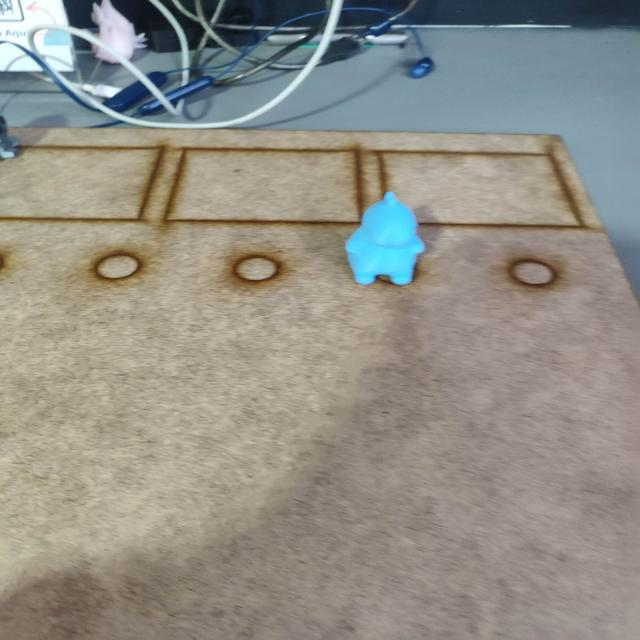DINO: (342, 190, 432, 300)
